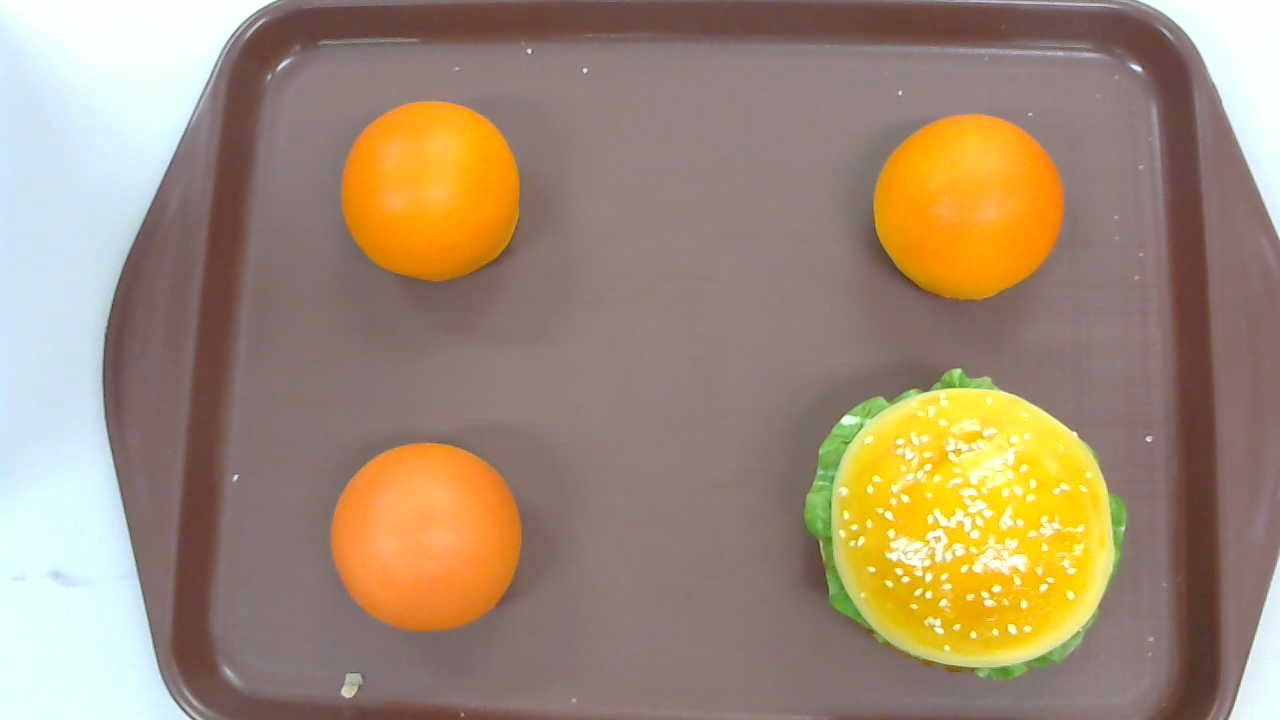bun: (872, 112, 1065, 301), (331, 441, 522, 631), (341, 99, 522, 282)
hamburger: (803, 367, 1127, 682)
